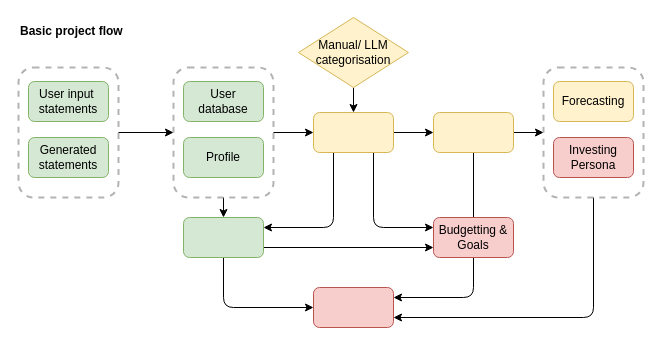
Image size: 661x345. Some labels were removed from this diagram. The centre of each missing label's shape, as x and y in pixels:
Analysis: [223,237]
Behavioural Inference: [473,132]
Categories: [353,132]
Reporting & advice: [353,307]
